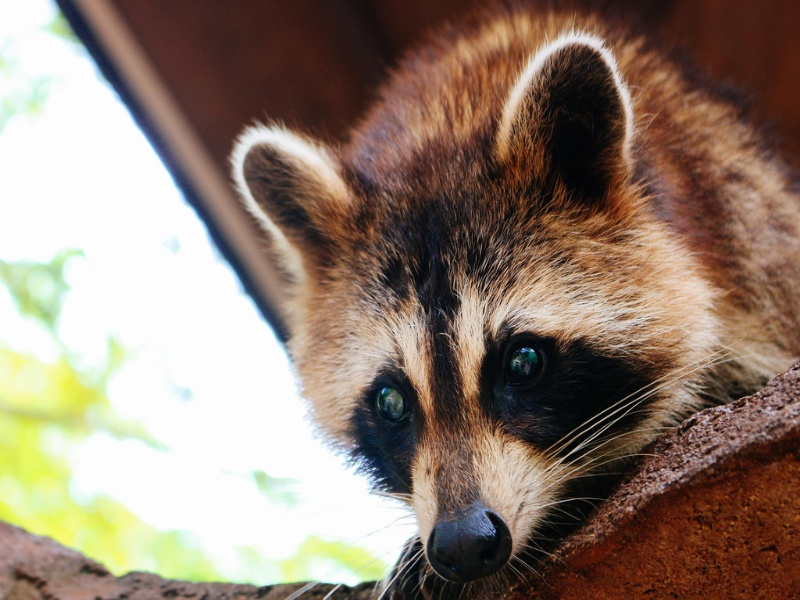raccoon: (229, 9, 799, 581)
